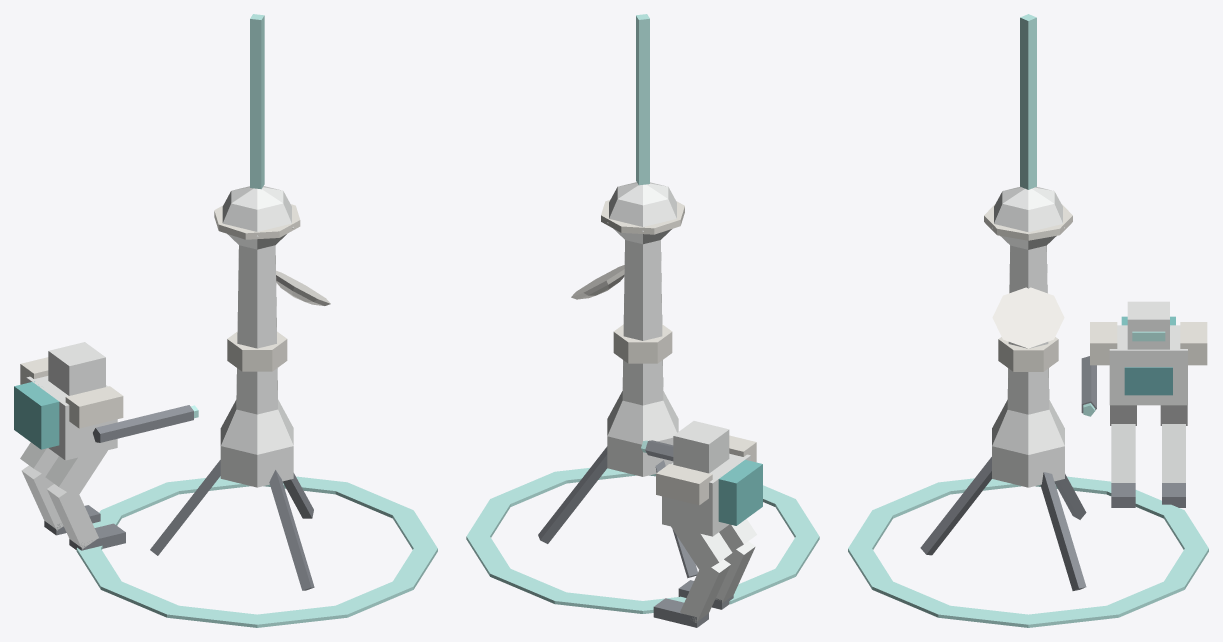
Rendered from formation_back.glb.
3 views of the same model, side by side, from view 1: azimuth 30°, elevation 25°; view 2: azimuth 150°, elevation 25°; view 3: azimuth 270°, elevation 25° (orthographic). The views are drawn at different scales.
Parts seen in each view (by area): view 1: stellar_formation_back; view 2: stellar_formation_back; view 3: stellar_formation_back.
Boxes of the visible parts, <box> form: stellar_formation_back: <box>14,14,437,627</box>; stellar_formation_back: <box>466,14,819,627</box>; stellar_formation_back: <box>848,14,1208,627</box>.
Bounding box in the file's own units: 0.633 × 0.9995 × 0.6076.
